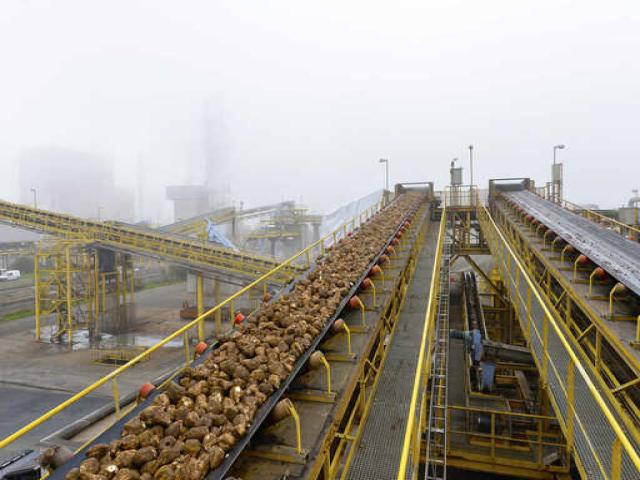conveyor: (47, 184, 427, 480), (476, 175, 640, 330)
